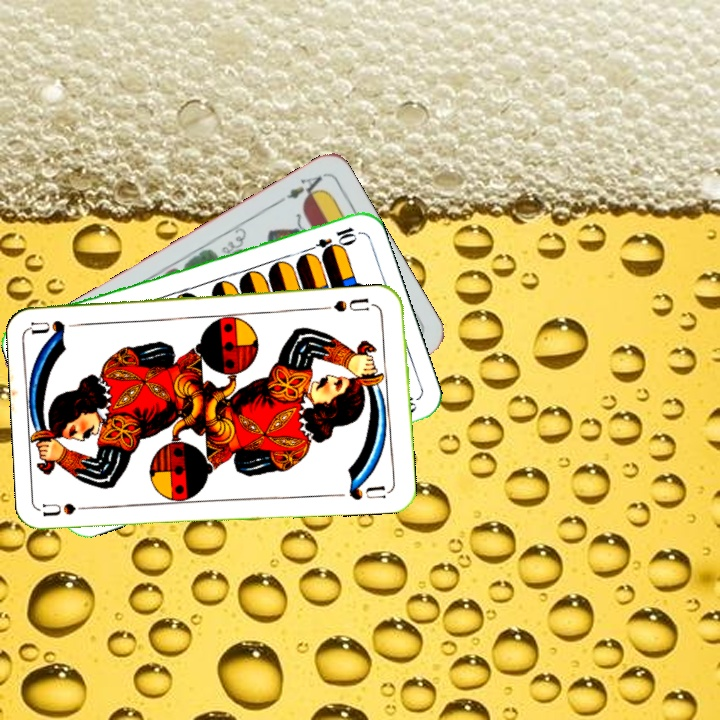E10: (301, 223, 359, 257)
EA: (272, 171, 326, 207)
SU: (41, 499, 100, 519), (330, 294, 380, 315)
